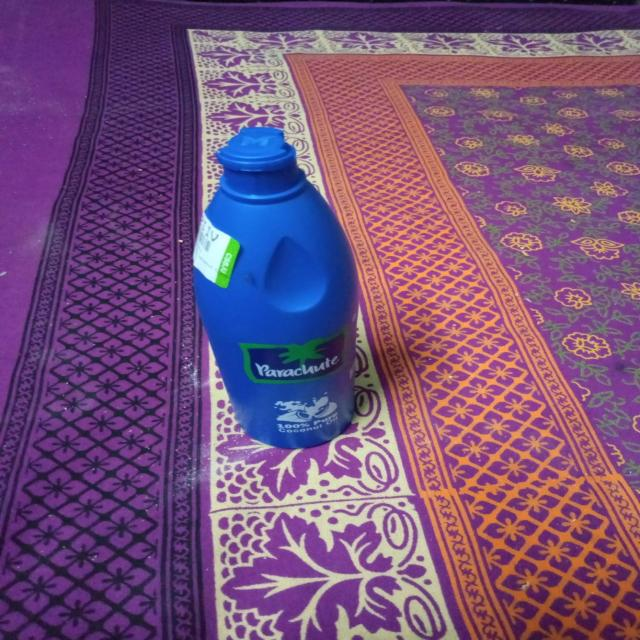parachute_oil: (194, 122, 365, 460)
